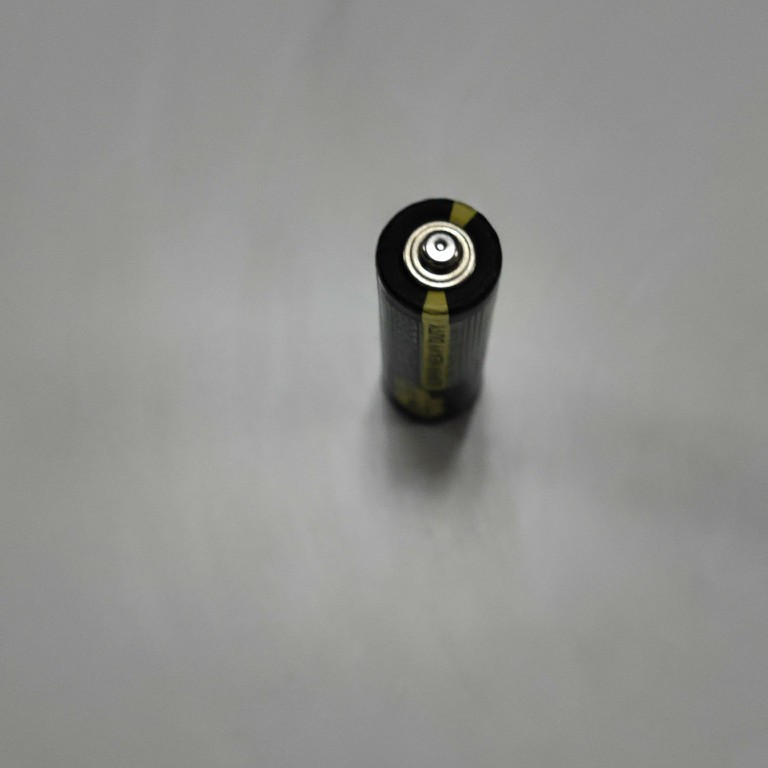charge: (371, 191, 505, 428)
